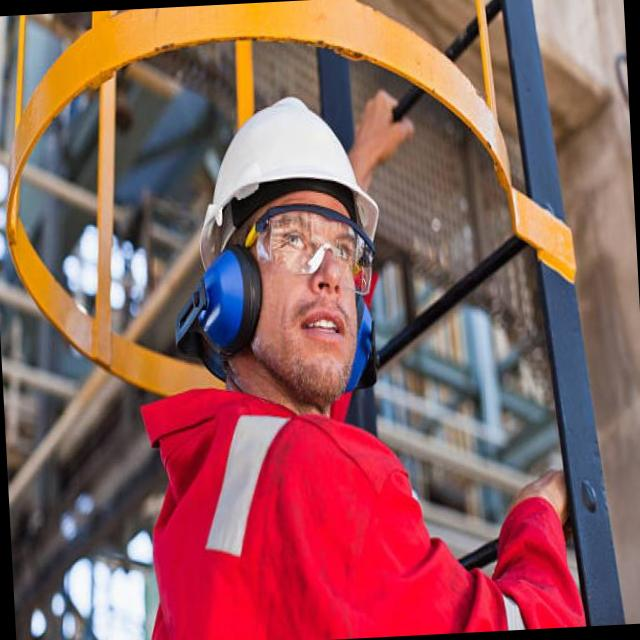Helmet: (186, 92, 384, 226)
